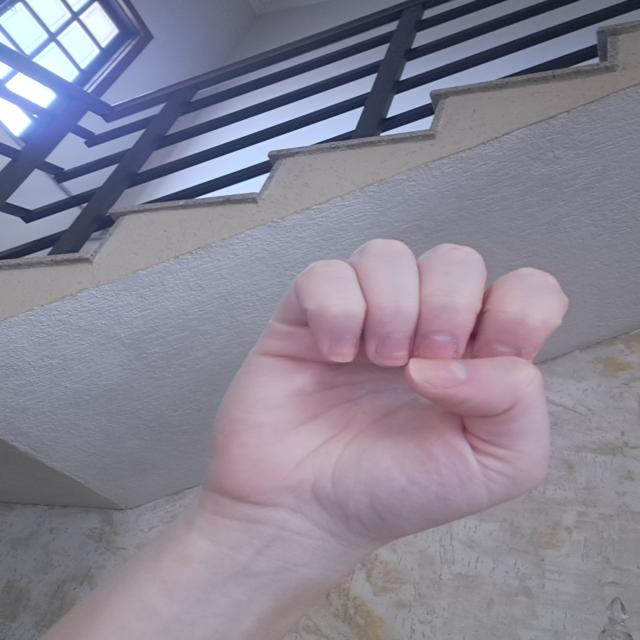E: (209, 218, 580, 572)
